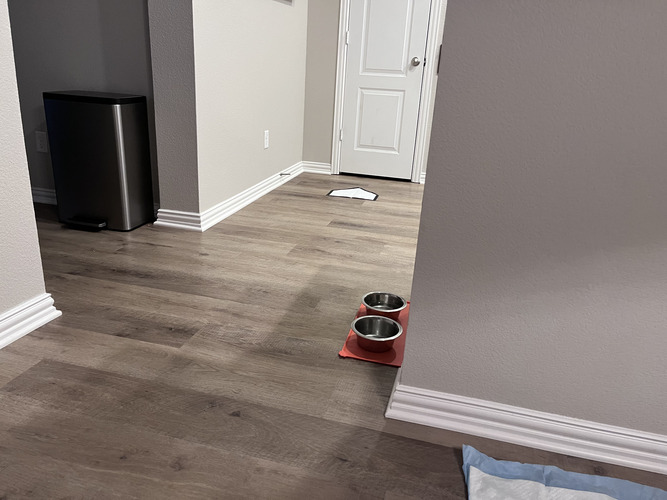homeplate: (326, 186, 377, 200)
